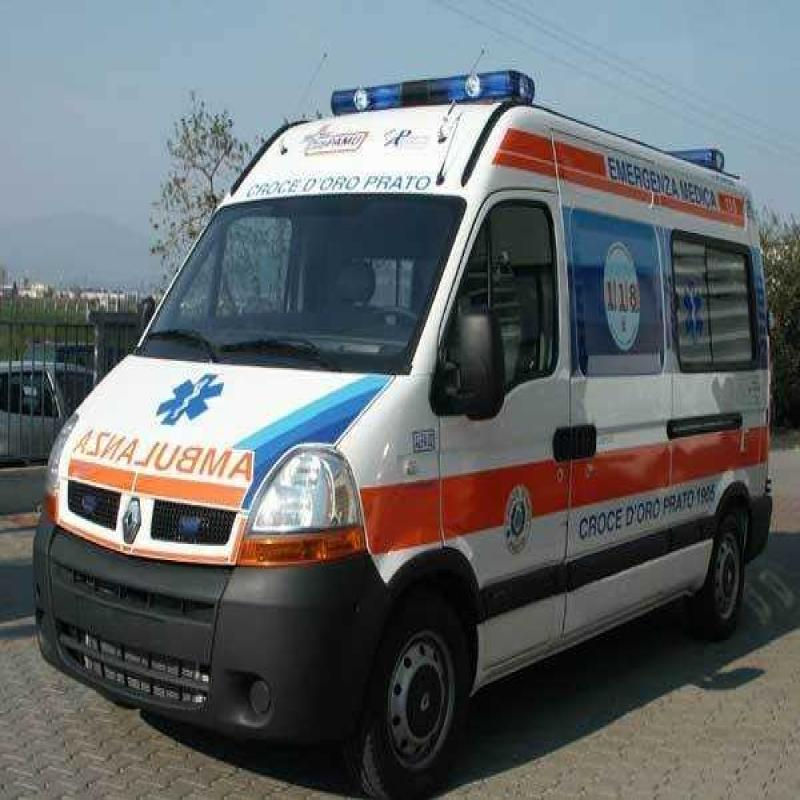AmbulanceSiren: (315, 50, 538, 126)
